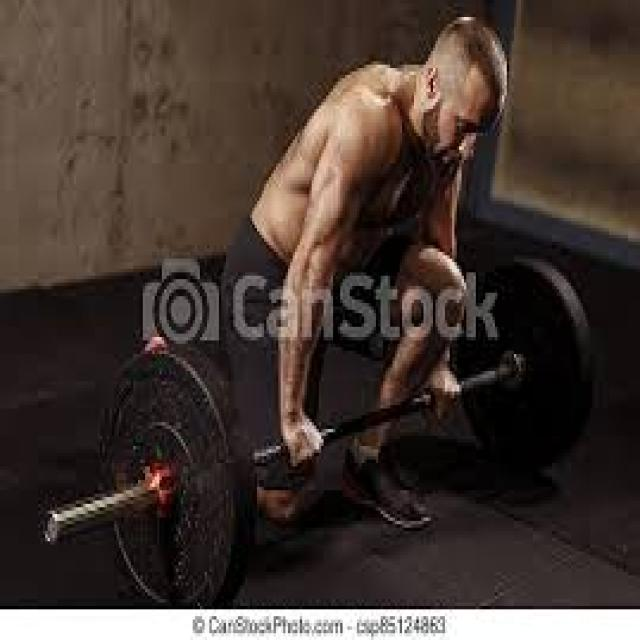barbell_plate_side: (41, 248, 179, 606), (455, 248, 593, 606)
